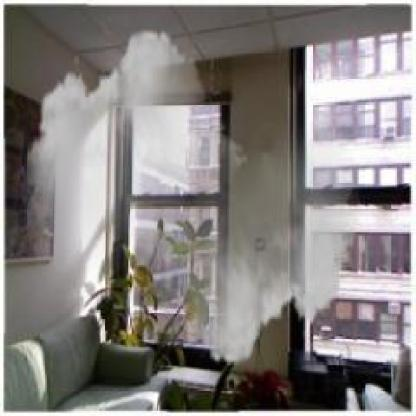Smoke: (21, 18, 360, 375)
